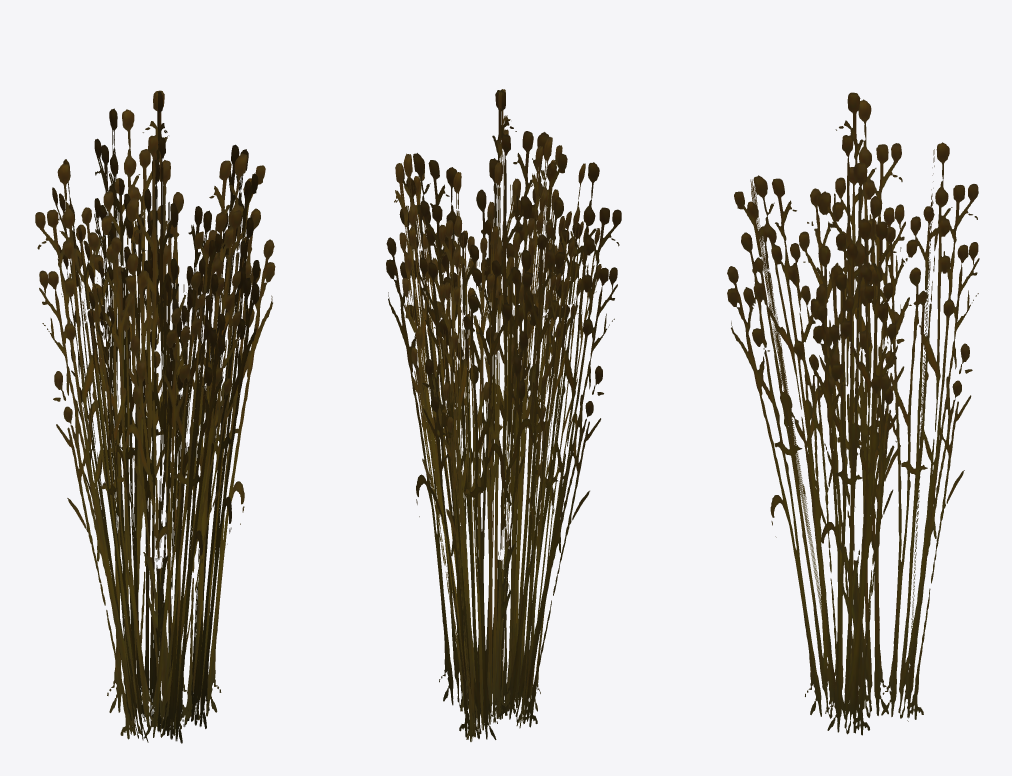
The model's file is gardenbed_flax2.FBX.
3 views of the same model, side by side, from view 1: azimuth 30°, elevation 25°; view 2: azimuth 150°, elevation 25°; view 3: azimuth 270°, elevation 25° (orthographic). The views are drawn at different scales.
Visible parts, largest first — view 1: gardenBed_flax2; view 2: gardenBed_flax2; view 3: gardenBed_flax2.
Boxes of the visible parts, x1,y1,x2,y2 form: gardenBed_flax2: (35, 90, 275, 743); gardenBed_flax2: (386, 89, 621, 741); gardenBed_flax2: (727, 92, 979, 735).
Size of the model in its own units: 22.75 by 50.16 by 21.73.
1 material, 1 textured.
